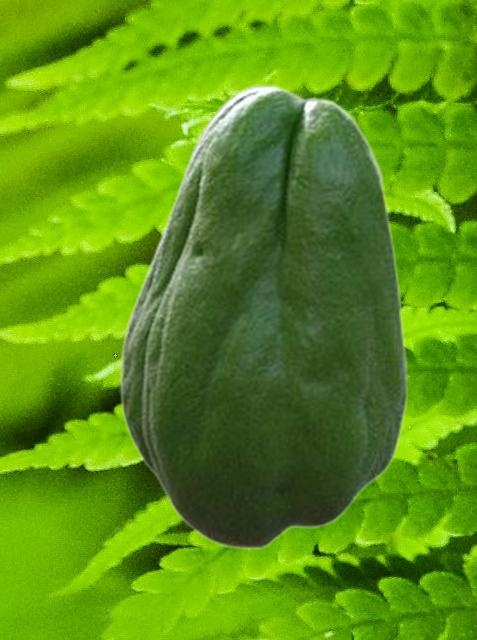sayote: (119, 84, 408, 549)
